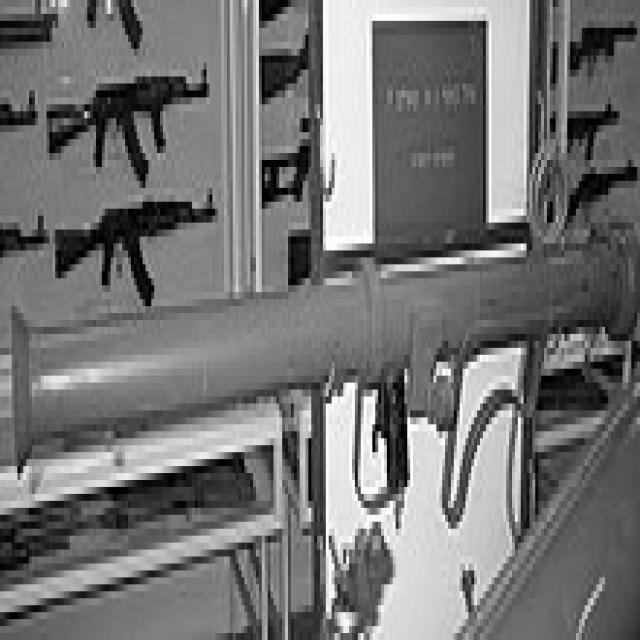Lancher: (6, 221, 640, 453)
